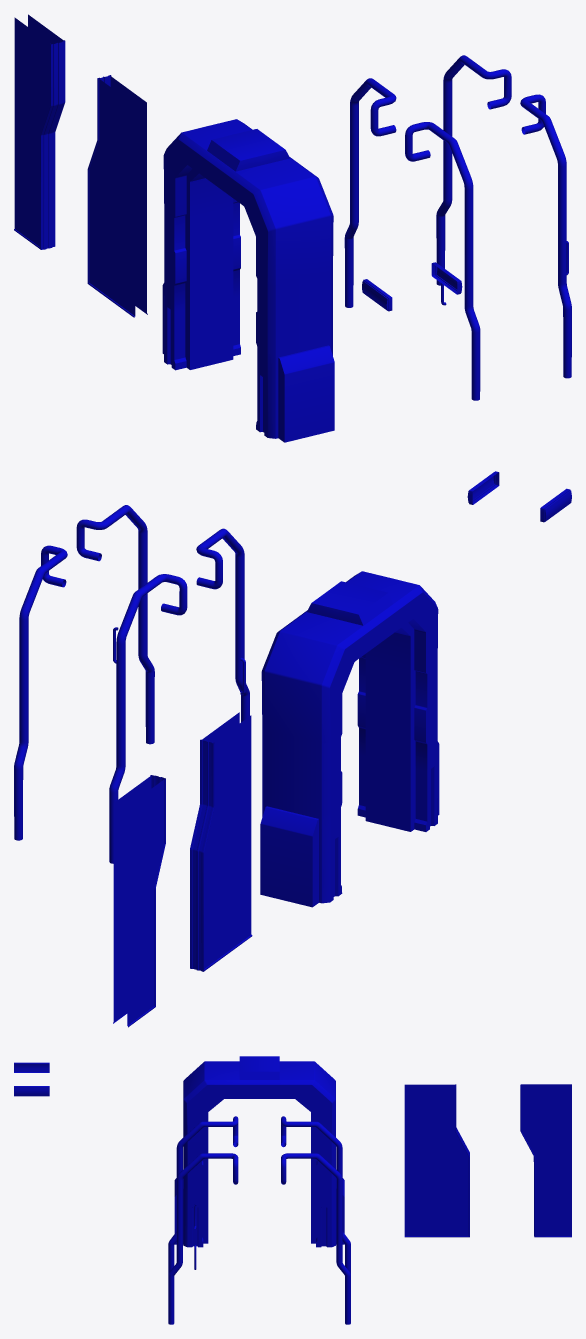
The model's file is E_Door_Low_EXP.FBX.
3 renders of one model, top to bottom at view 1: azimuth 30°, elevation 25°; view 2: azimuth 150°, elevation 25°; view 3: azimuth 270°, elevation 25°, orthographic. The views are drawn at different scales.
Parts seen in each view (by area): view 1: E_Door_Low_EXP; view 2: E_Door_Low_EXP; view 3: E_Door_Low_EXP.
Part boxes in pixels (bbox=[...]): E_Door_Low_EXP: bbox=[14, 14, 571, 442]; E_Door_Low_EXP: bbox=[14, 471, 571, 1027]; E_Door_Low_EXP: bbox=[14, 1056, 571, 1324].
Size of the model in its own units: 119 by 88.4 by 259.
